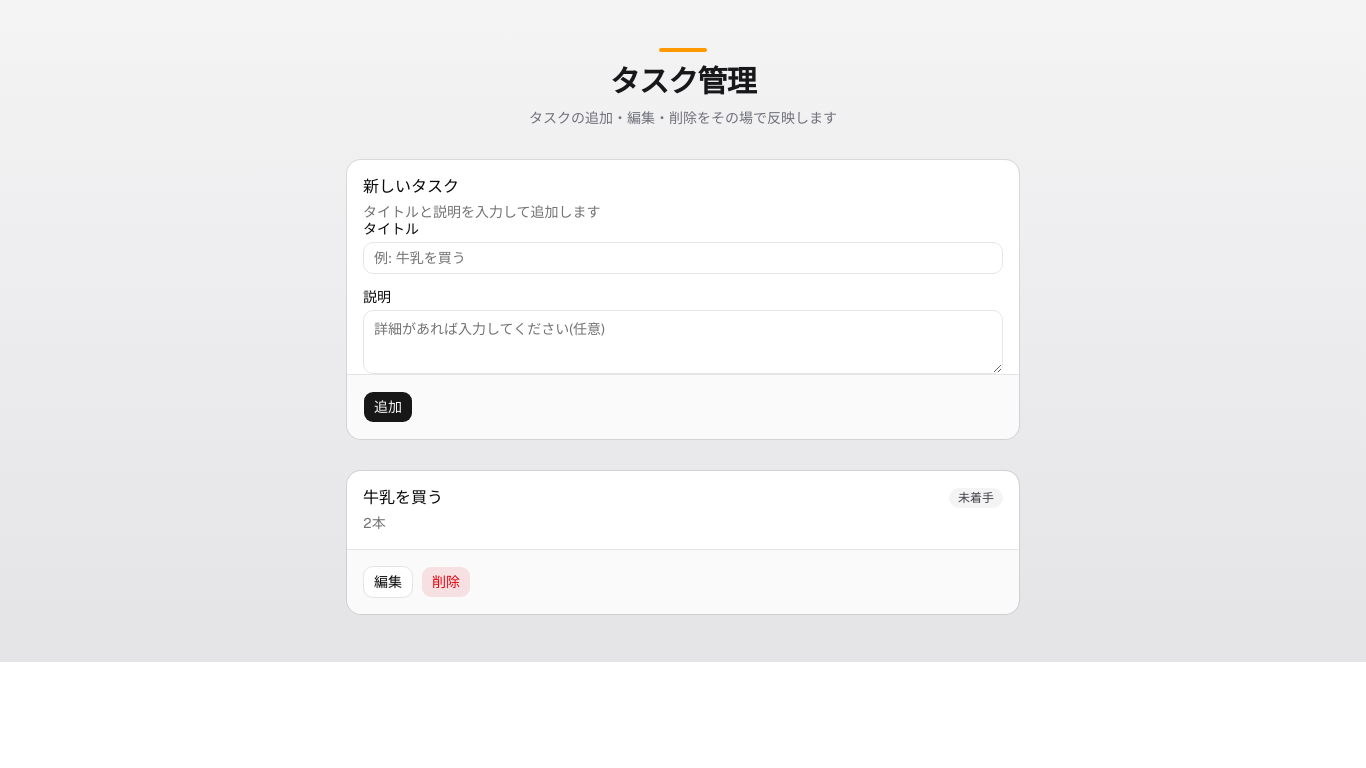
TaskBoard タスクの削除 › 状態遷移(順方向): 削除クリックで確認UIが表示されタスクはまだ残る
Expected: the text "牛乳を買う" is shown, [363, 487, 443, 508]
Click the button "削除": (446, 582) [421, 566, 471, 598]
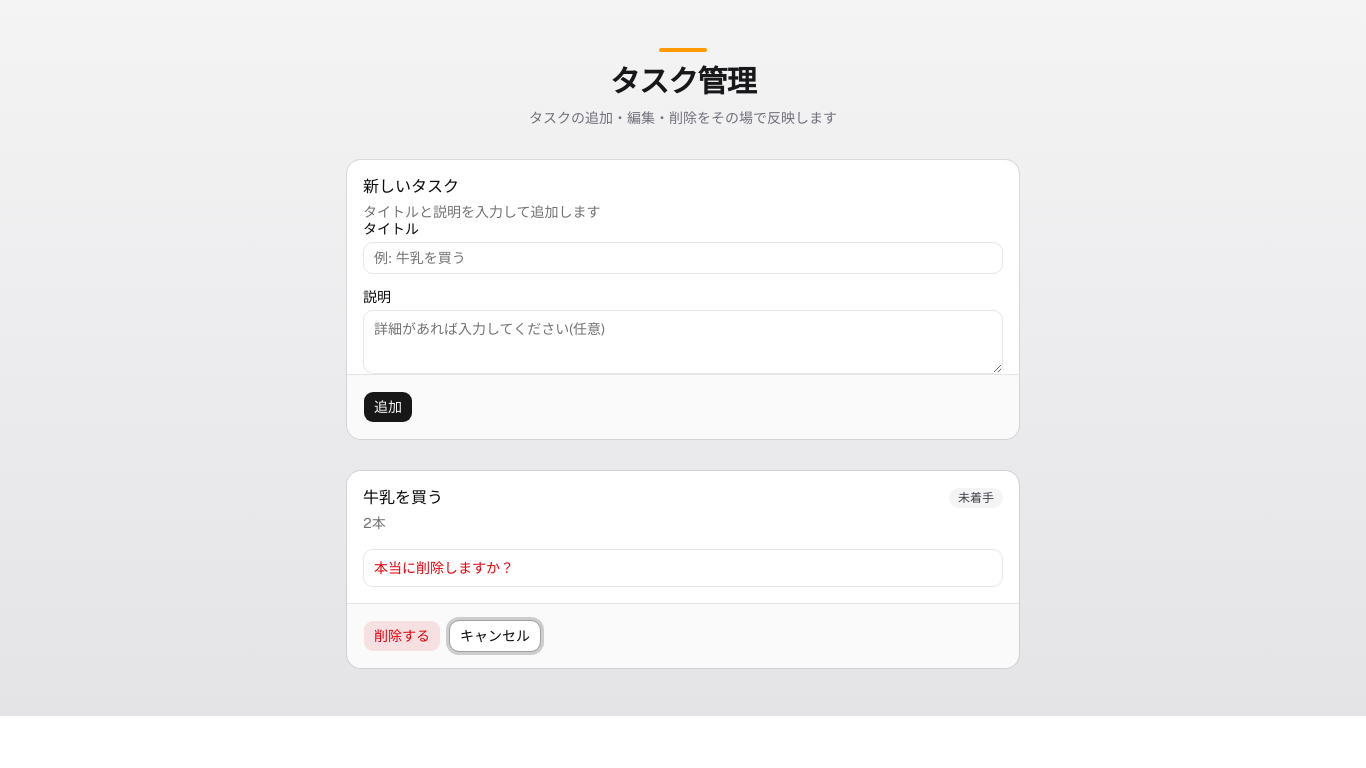
Expected: the text "牛乳を買う" is shown, [363, 487, 443, 508]
Expected: the text "本当に削除しますか？" is shown, [374, 559, 514, 577]
